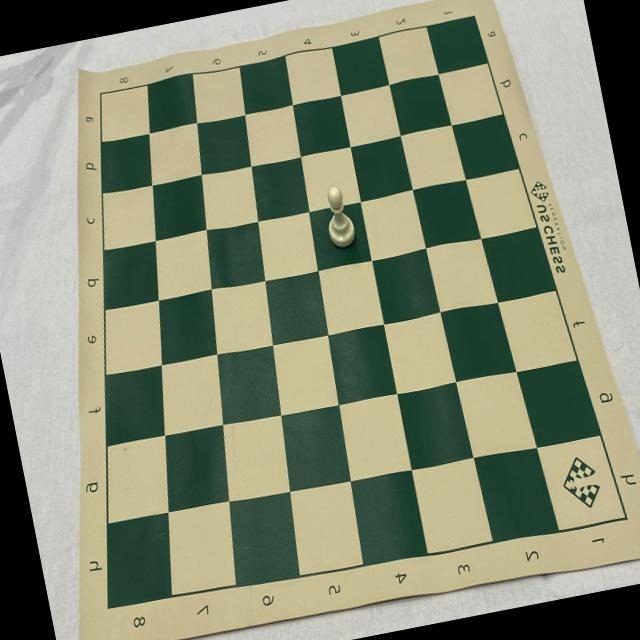white-pawn: (318, 181, 358, 252)
